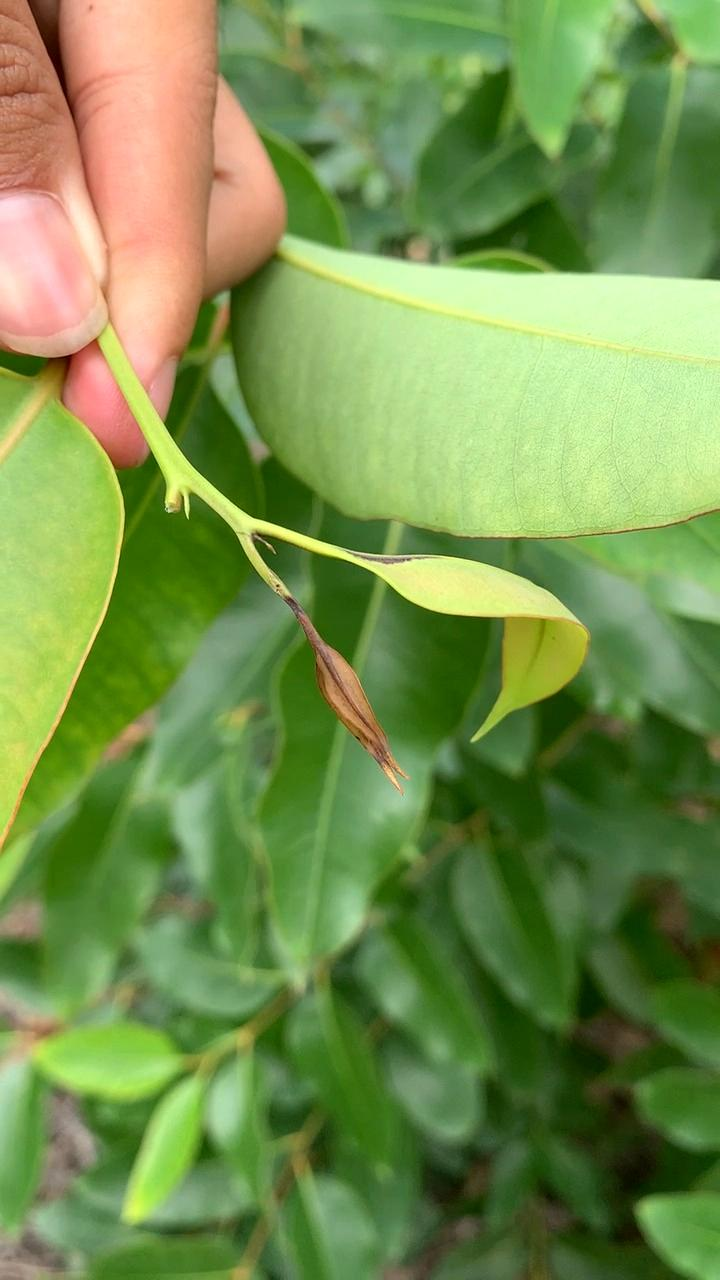Helopeltis-Withered Sprout: (263, 578, 425, 833)
